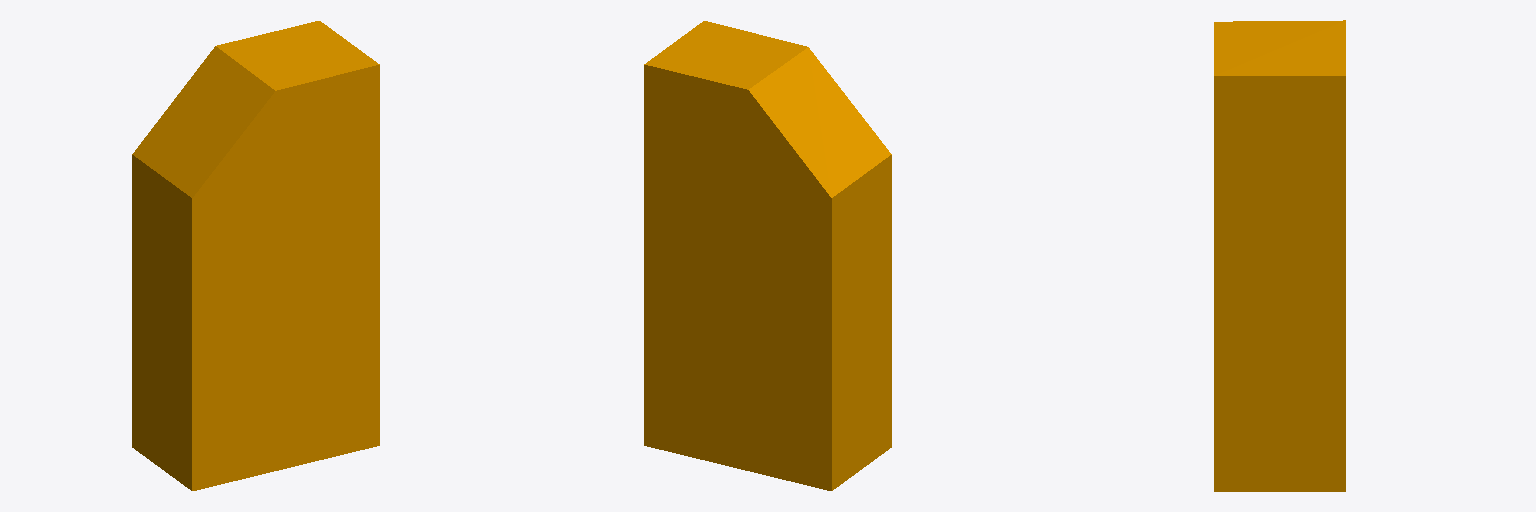
URDF robot description (oil_bottle_simple_upright.off):
<?xml version="1.0"?>
<robot name="oil_bottle_simple_upright.off">
	<link name="oil_bottle_simple_upright.off">
		<inertial>
			<!--origin xyz="0 0 0" rpy="0 0 0" /-->
			<mass value="0.5" />
			<!--inertia ixx="0.000360" ixy="0" ixz="0" iyy="0.0000615" iyz="0" izz="0.00036" /-->
		</inertial>
    		<visual>
	      		<!--origin rpy="0 0 0" xyz="0 0 0"/-->
      			<geometry>
        			<mesh filename="oil_bottle_simple_upright.off.obj"/>
      			</geometry>
         	</visual>
    		<collision>
      			<!--origin rpy="0 0 0" xyz="0 0 0"/-->
      			<geometry>
        			<mesh filename="oil_bottle_simple_upright.off.obj"/>
      			</geometry>
    		</collision>
	</link>
</robot>

--- Render facts (derived) ---
The picture shows the robot from 3 angles, left to right: view 1: azimuth 30°, elevation 25°; view 2: azimuth 150°, elevation 25°; view 3: azimuth 270°, elevation 25°; orthographic projection.
Robot: oil_bottle_simple_upright.off — 1 links, 0 joints (none); root link oil_bottle_simple_upright.off; default pose: every joint at zero.
Links seen in each view (by area): view 1: oil_bottle_simple_upright.off; view 2: oil_bottle_simple_upright.off; view 3: oil_bottle_simple_upright.off.
Link boxes in pixels (bbox=[...]): oil_bottle_simple_upright.off: bbox=[132, 21, 379, 490]; oil_bottle_simple_upright.off: bbox=[644, 21, 891, 490]; oil_bottle_simple_upright.off: bbox=[1214, 20, 1345, 491].
Size in the robot's own frame: 0.09 by 0.05 by 0.175 metres.
Meshes: 1 distinct files referenced, 1 mesh visuals loaded (1 OBJ).